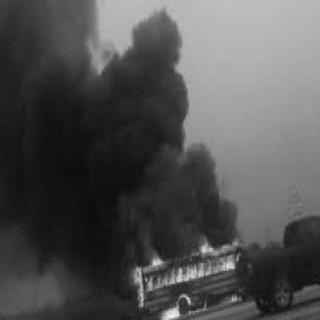Fire: (123, 218, 244, 316)
Smoke: (2, 3, 242, 253)
